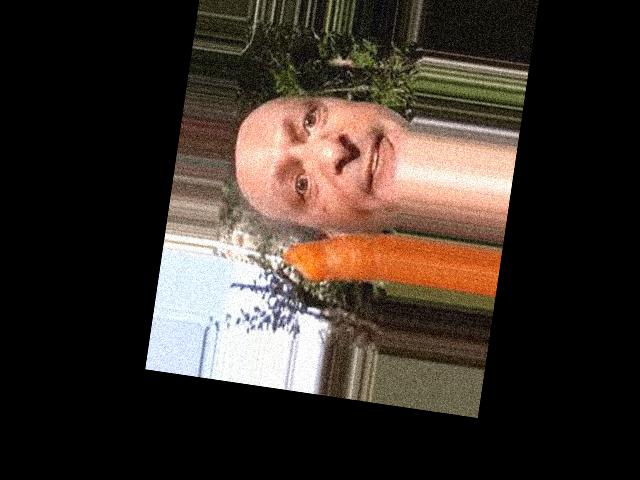carrot: (277, 214, 398, 292)
